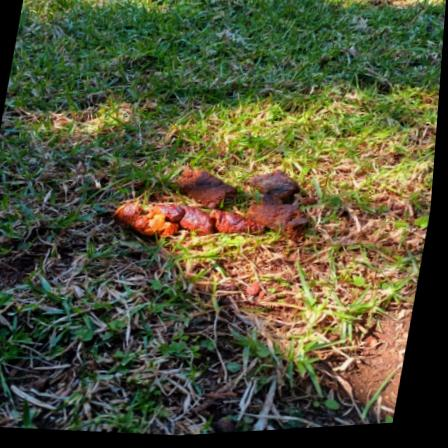dog-poop: (124, 159, 317, 253)
